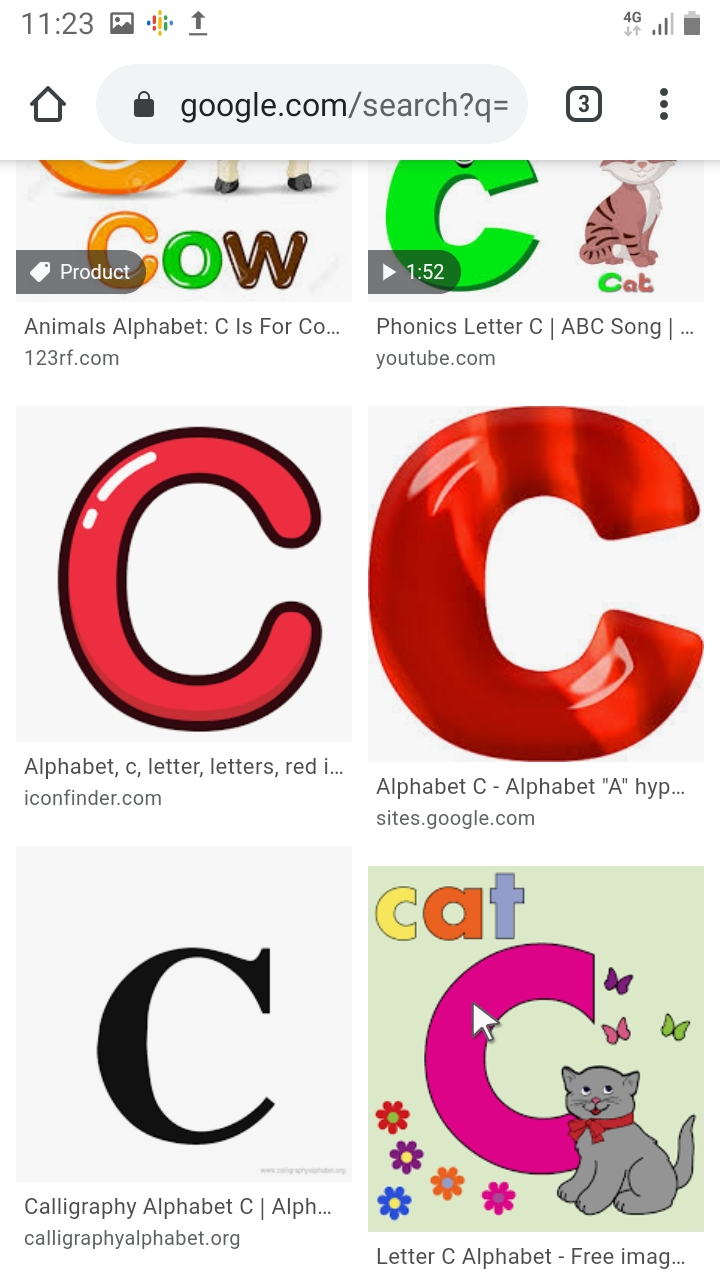zone C: (364, 394, 702, 766), (41, 412, 333, 741), (84, 912, 325, 1153), (411, 935, 625, 1200)
